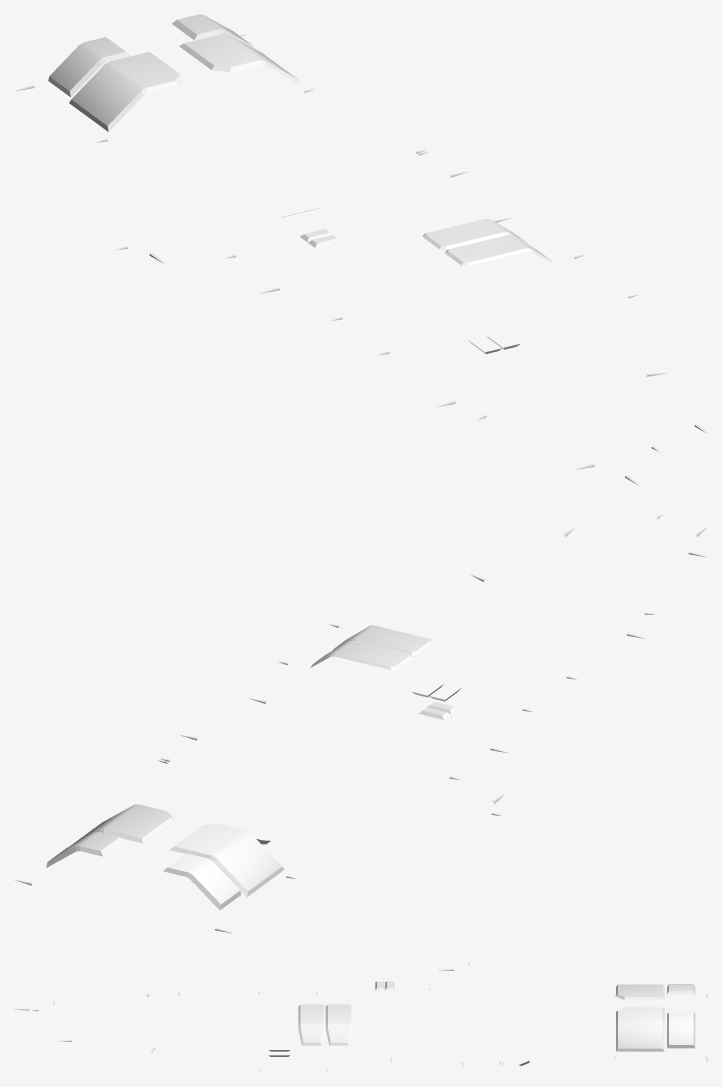
File: hgn_flagship_explorer_01.glb
3 renders of one model, top to bottom at view 1: azimuth 30°, elevation 25°; view 2: azimuth 150°, elevation 25°; view 3: azimuth 270°, elevation 25°, orthographic. The views are drawn at different scales.
Parts seen in each view (by area): view 1: hgn_fs_explorer_01_LOD0; view 2: hgn_fs_explorer_01_LOD0; view 3: hgn_fs_explorer_01_LOD0.
Part boxes in pixels (x1,y1,x2,y2): hgn_fs_explorer_01_LOD0: [14, 14, 707, 485]; hgn_fs_explorer_01_LOD0: [14, 514, 707, 933]; hgn_fs_explorer_01_LOD0: [14, 962, 707, 1072].
Size of what is drawn, in the model's own units: 4.95 by 1.16 by 13.69.
Materials: 1 (1 with a texture image).
